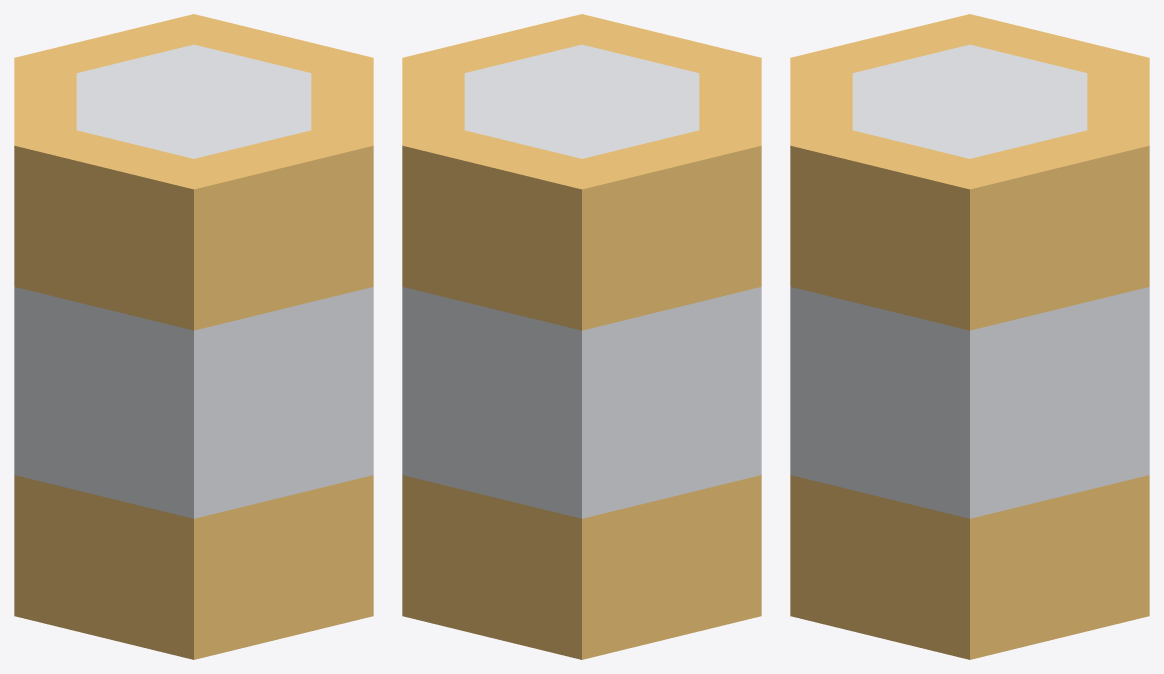
Rendered from barrel.glb.
3 renders of one model, left to right at view 1: azimuth 30°, elevation 25°; view 2: azimuth 150°, elevation 25°; view 3: azimuth 270°, elevation 25°, orthographic.
Visible parts, largest first — view 1: barrel; view 2: barrel; view 3: barrel.
Boxes of the visible parts, box(x1,y1,x2,y2) form: barrel: box(14, 14, 373, 659); barrel: box(402, 14, 761, 659); barrel: box(790, 14, 1149, 659).
Size of the model in its own units: 0.2808 by 0.351 by 0.2432.
